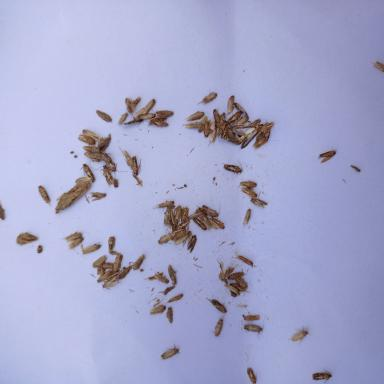pbw: (69, 177, 93, 197), (54, 191, 75, 213), (243, 318, 266, 338), (220, 160, 243, 178), (216, 260, 236, 280), (205, 296, 228, 313), (104, 160, 128, 176), (17, 229, 41, 245), (160, 342, 180, 361), (37, 184, 53, 207), (240, 131, 258, 151), (311, 368, 333, 384), (232, 254, 256, 268), (252, 130, 270, 148), (318, 147, 338, 163), (157, 230, 178, 245), (230, 281, 251, 296), (81, 241, 103, 255), (100, 164, 113, 187), (197, 91, 218, 105), (212, 316, 226, 336), (150, 109, 174, 120), (371, 55, 384, 75), (226, 110, 242, 126), (119, 263, 134, 280), (82, 128, 100, 142), (81, 162, 95, 180), (199, 204, 218, 217), (112, 252, 124, 272), (101, 275, 118, 289), (223, 282, 240, 296), (98, 133, 112, 150), (95, 109, 113, 122), (207, 217, 225, 230), (185, 110, 204, 122), (243, 366, 256, 383), (67, 236, 84, 249), (250, 195, 267, 208), (133, 253, 146, 270), (82, 151, 102, 162), (186, 232, 197, 252), (96, 270, 110, 285), (124, 116, 143, 127), (166, 264, 177, 283), (143, 98, 156, 114), (176, 230, 192, 243), (243, 118, 260, 130), (227, 268, 244, 280), (242, 207, 252, 227), (234, 102, 248, 116), (236, 276, 250, 290), (226, 94, 236, 113), (212, 107, 222, 126), (238, 179, 257, 189), (162, 208, 172, 227), (149, 304, 166, 315), (240, 187, 257, 198), (192, 217, 205, 231), (116, 111, 129, 125), (65, 229, 80, 241), (74, 175, 92, 185), (0, 200, 8, 222), (90, 190, 106, 201), (203, 119, 212, 138), (125, 96, 135, 113), (93, 254, 106, 267), (259, 121, 273, 133), (106, 269, 120, 281), (174, 220, 189, 231), (148, 120, 168, 128), (167, 292, 183, 302), (240, 314, 260, 322), (198, 115, 208, 131), (182, 121, 202, 129), (180, 205, 189, 222), (107, 236, 116, 253), (154, 274, 169, 284), (83, 146, 101, 154), (147, 272, 163, 281), (210, 125, 218, 143), (133, 107, 146, 118), (133, 174, 144, 187), (200, 216, 211, 229), (236, 116, 250, 126), (139, 112, 156, 120), (218, 112, 229, 124), (170, 210, 178, 226), (166, 305, 173, 323), (227, 137, 242, 145), (100, 152, 112, 162), (162, 285, 174, 295), (157, 200, 174, 207), (194, 208, 207, 217), (100, 261, 115, 268), (175, 202, 182, 216), (218, 123, 225, 137), (186, 213, 200, 220), (251, 122, 263, 130), (222, 126, 228, 140), (113, 178, 120, 189), (134, 96, 141, 107), (228, 128, 235, 138), (97, 266, 103, 276)
